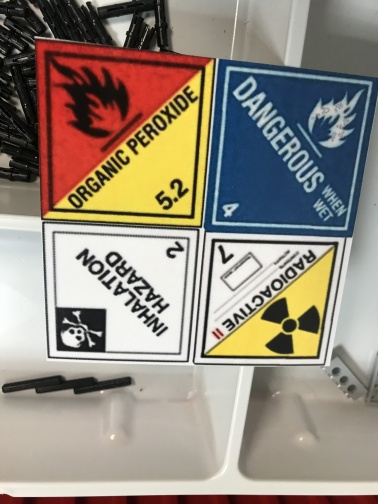DangerousWhenWet: (206, 58, 378, 238)
InhalationHazard: (41, 222, 199, 364)
OrganicPeroxide: (36, 37, 216, 228)
Radioactive: (192, 230, 345, 366)
